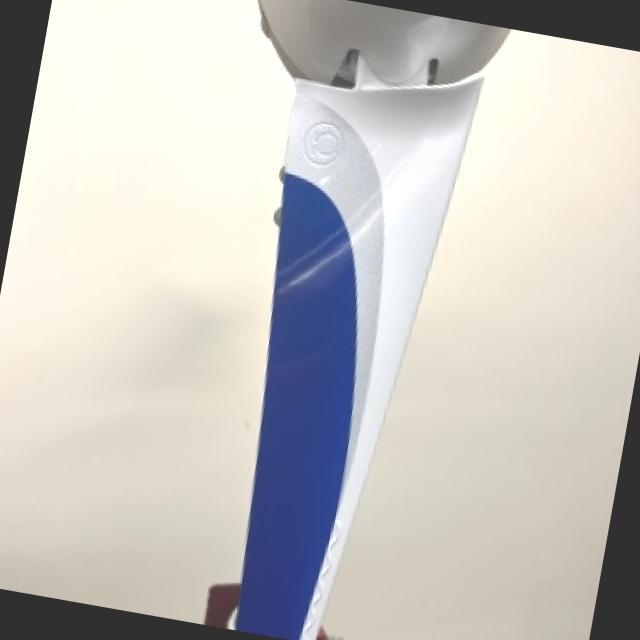healthy: (236, 0, 510, 640)
